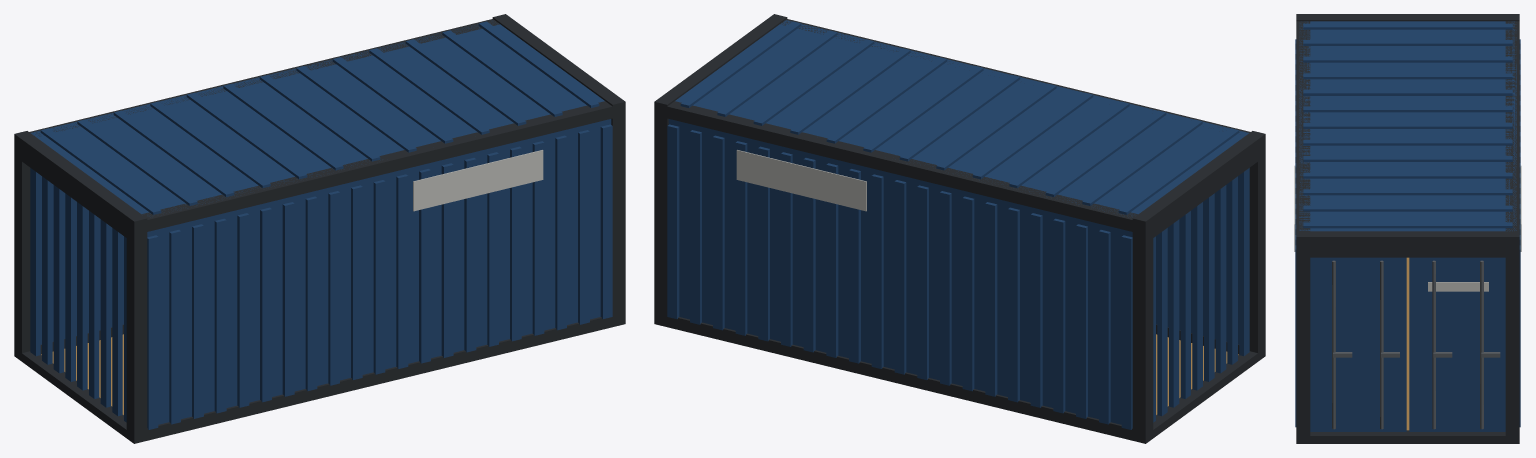
File: gs-container-blue.glb
3 renders of one model, left to right at view 1: azimuth 30°, elevation 25°; view 2: azimuth 150°, elevation 25°; view 3: azimuth 270°, elevation 25°, orthographic. The views are drawn at different scales.
Visible parts, largest first — view 1: gs-container-blue; view 2: gs-container-blue; view 3: gs-container-blue.
Part boxes in pixels (x1,y1,x2,y2): gs-container-blue: (14, 14, 625, 443); gs-container-blue: (654, 14, 1265, 443); gs-container-blue: (1294, 14, 1521, 443).
Size of the model in its own units: 6.08 by 2.63 by 2.61.
